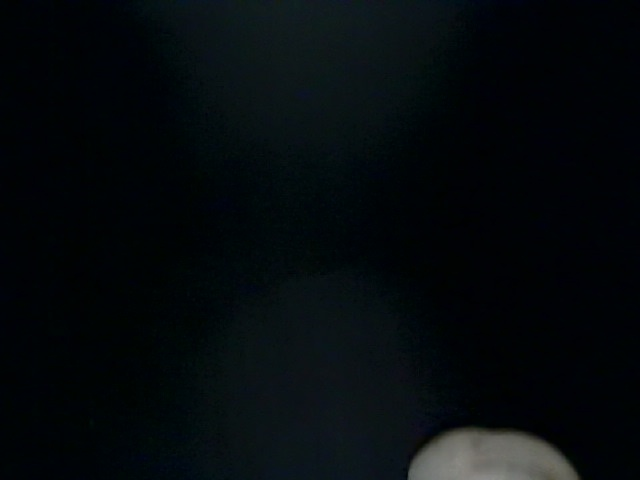QTLJ: (445, 445, 591, 480)
